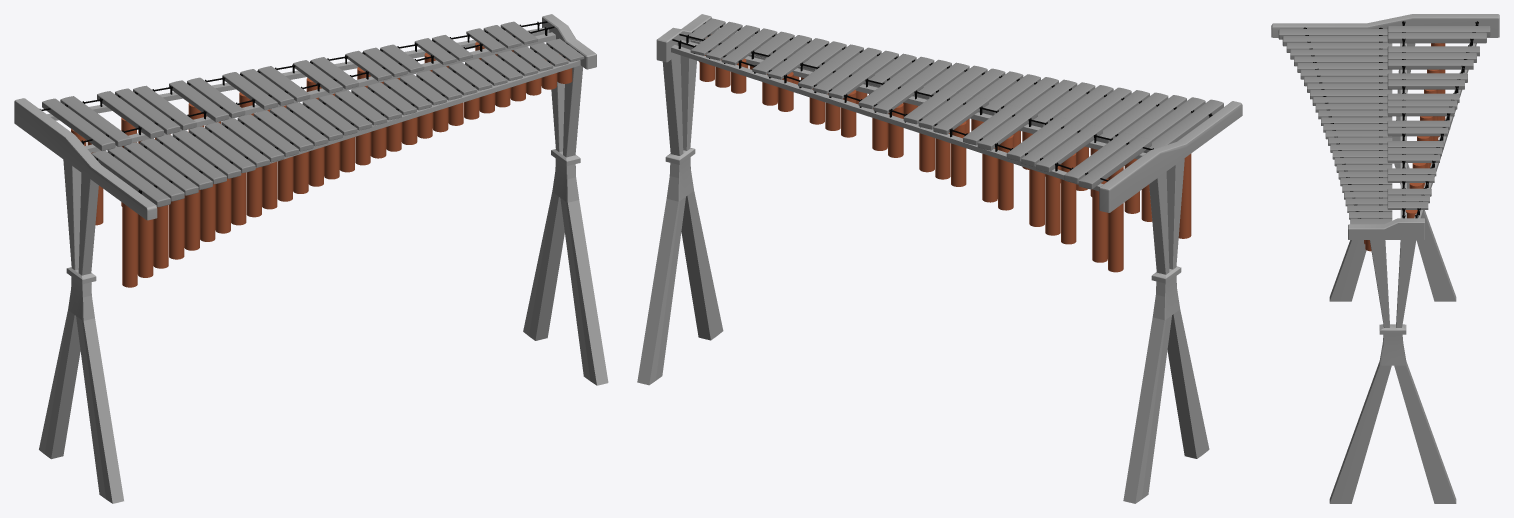
File: Marimba.fbx
The picture shows the model from 3 angles, left to right: view 1: azimuth 30°, elevation 25°; view 2: azimuth 150°, elevation 25°; view 3: azimuth 270°, elevation 25°; orthographic projection. The views are drawn at different scales.
Visible parts, largest first — view 1: Leg2, Leg1, LargeSide, UnderWood2, UnderWood4, pCylinder1, C31, C1, C2, UnderWood3, C3, C34 (+35 smaller); view 2: Leg2, Leg1, LargeSide, UnderWood3, C31, pCylinder33, C1, C34, pCylinder30, UnderWood2, C32, C4 (+25 smaller); view 3: Leg1, Leg2, LargeSide, SmallSide, C32, C36, C3, C4, C1, C39, C2, C31 (+42 smaller).
Part boxes in pixels (x1,y1,x2,y2): Leg2: (39,159,123,503); Leg1: (523,49,608,385); LargeSide: (14,98,157,220); UnderWood2: (85,32,555,152); UnderWood4: (255,60,580,167); pCylinder1: (122,203,137,287); C31: (42,98,115,150); C1: (91,150,170,207); C2: (107,146,184,201); UnderWood3: (47,27,549,120); C3: (124,142,198,195); C34: (97,91,163,138); Leg2: (1123,158,1209,503); Leg1: (637,54,723,385); LargeSide: (1099,101,1242,212); UnderWood3: (671,45,1103,191); C31: (1078,136,1151,189); pCylinder33: (1061,153,1076,244); C1: (1144,99,1223,152); C34: (1035,124,1102,172); pCylinder30: (1108,167,1123,272); UnderWood2: (677,40,1145,159); C32: (1064,132,1135,183); C4: (1096,92,1168,143); Leg1: (1329,240,1456,503); Leg2: (1329,43,1456,301); LargeSide: (1271,14,1499,37); SmallSide: (1348,218,1424,239); C32: (1387,32,1486,43); C36: (1387,60,1473,69); C3: (1286,42,1392,52); C4: (1290,49,1387,59); C1: (1278,29,1387,39); C39: (1387,80,1464,89); C2: (1282,36,1387,46); C31: (1387,26,1490,36).
Size of the model in its own units: 337 by 214 by 156.
